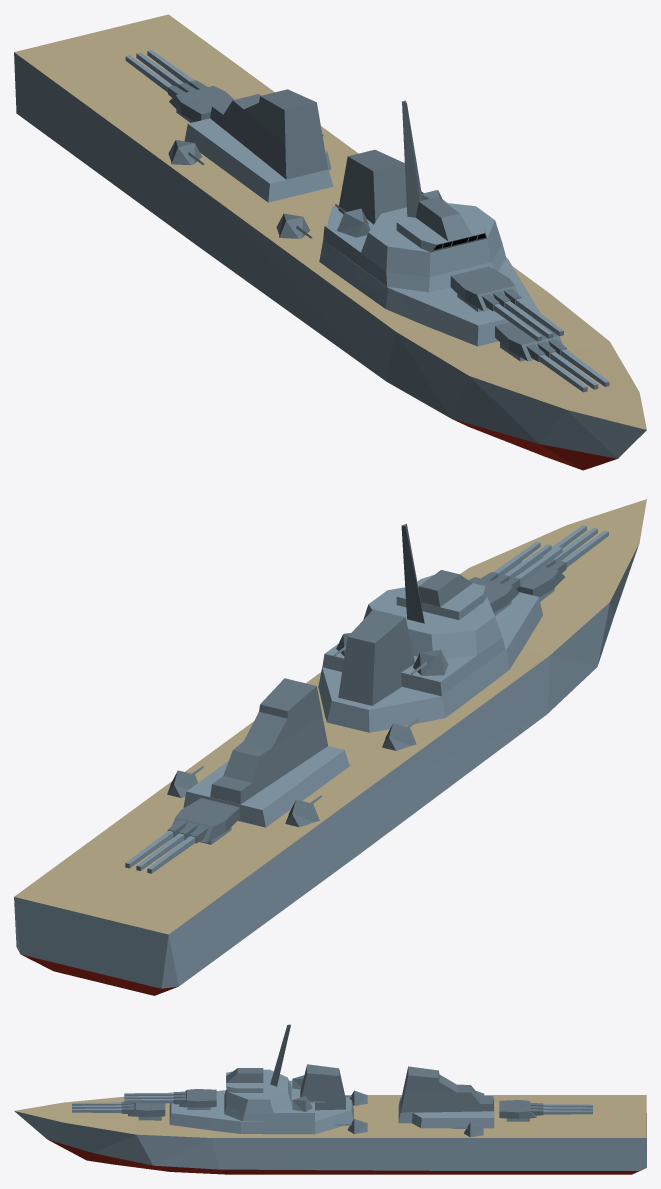
File: Ship4.fbx
The picture shows the model from 3 angles, top to bottom: view 1: azimuth 30°, elevation 25°; view 2: azimuth 150°, elevation 25°; view 3: azimuth 270°, elevation 25°; orthographic projection. The views are drawn at different scales.
Parts seen in each view (by area): view 1: Ship_platform, Pilothouse_2, Funnel_2, Pilothouse_1, FunnelPlatform_2, Funnel_1, 356mm barrel x3.001, 356mm barrel x3, 356mm cannons x3, 356mm barrel x3.002, Pilothouse_3, 356mm cannons x3.002 (+3 smaller); view 2: Ship_platform, Pilothouse_2, Funnel_2, Pilothouse_1, Funnel_1, FunnelPlatform_2, 356mm barrel x3.002, 356mm cannons x3.002, 356mm barrel x3, 356mm barrel x3.001, Pilothouse_3, Antena_2 (+3 smaller); view 3: Ship_platform, Pilothouse_1, Pilothouse_2, Funnel_2, Funnel_1, FunnelPlatform_2, 356mm barrel x3.002, 356mm barrel x3, 356mm barrel x3.001, 356mm cannons x3.002, 356mm cannons x3, Pilothouse_3 (+3 smaller).
Boxes of the visible parts, bbox=[...] form: Ship_platform: bbox=[14, 14, 646, 470]; Pilothouse_2: bbox=[323, 200, 506, 292]; Funnel_2: bbox=[210, 89, 328, 179]; Pilothouse_1: bbox=[319, 205, 539, 346]; FunnelPlatform_2: bbox=[184, 118, 333, 202]; Funnel_1: bbox=[338, 149, 406, 224]; 356mm barrel x3.001: bbox=[526, 339, 609, 392]; 356mm barrel x3: bbox=[481, 288, 563, 341]; 356mm cannons x3: bbox=[450, 266, 518, 311]; 356mm barrel x3.002: bbox=[125, 50, 207, 97]; Pilothouse_3: bbox=[416, 197, 472, 241]; 356mm cannons x3.002: bbox=[169, 86, 234, 121]; Ship_platform: bbox=[14, 499, 646, 995]; Pilothouse_2: bbox=[322, 575, 505, 696]; Funnel_2: bbox=[210, 678, 327, 804]; Pilothouse_1: bbox=[318, 592, 542, 732]; Funnel_1: bbox=[338, 609, 414, 705]; FunnelPlatform_2: bbox=[183, 746, 349, 827]; 356mm barrel x3.002: bbox=[125, 820, 208, 873]; 356mm cannons x3.002: bbox=[172, 798, 239, 842]; 356mm barrel x3: bbox=[481, 541, 562, 588]; 356mm barrel x3.001: bbox=[533, 525, 608, 572]; Pilothouse_3: bbox=[418, 570, 472, 606]; Antena_2: bbox=[401, 523, 424, 623]; Ship_platform: bbox=[14, 1095, 646, 1174]; Pilothouse_1: bbox=[169, 1090, 353, 1134]; Pilothouse_2: bbox=[224, 1069, 314, 1121]; Funnel_2: bbox=[400, 1066, 493, 1112]; Funnel_1: bbox=[300, 1064, 345, 1110]; FunnelPlatform_2: bbox=[398, 1096, 494, 1128]; 356mm barrel x3.002: bbox=[530, 1102, 592, 1115]; 356mm barrel x3: bbox=[124, 1091, 185, 1104]; 356mm barrel x3.001: bbox=[72, 1101, 134, 1113]; 356mm cannons x3.002: bbox=[499, 1100, 536, 1118]; 356mm cannons x3: bbox=[179, 1089, 216, 1107]; Pilothouse_3: bbox=[226, 1068, 263, 1082].
Bounding box in the file's own units: 95.59 × 134 × 567.
